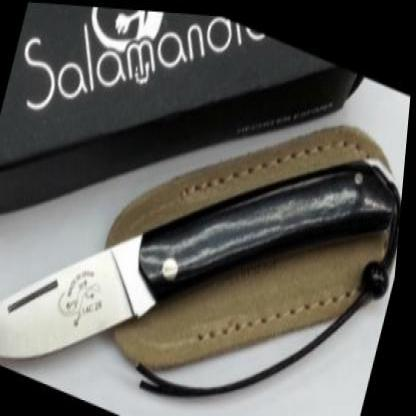knife: (0, 154, 186, 413)
